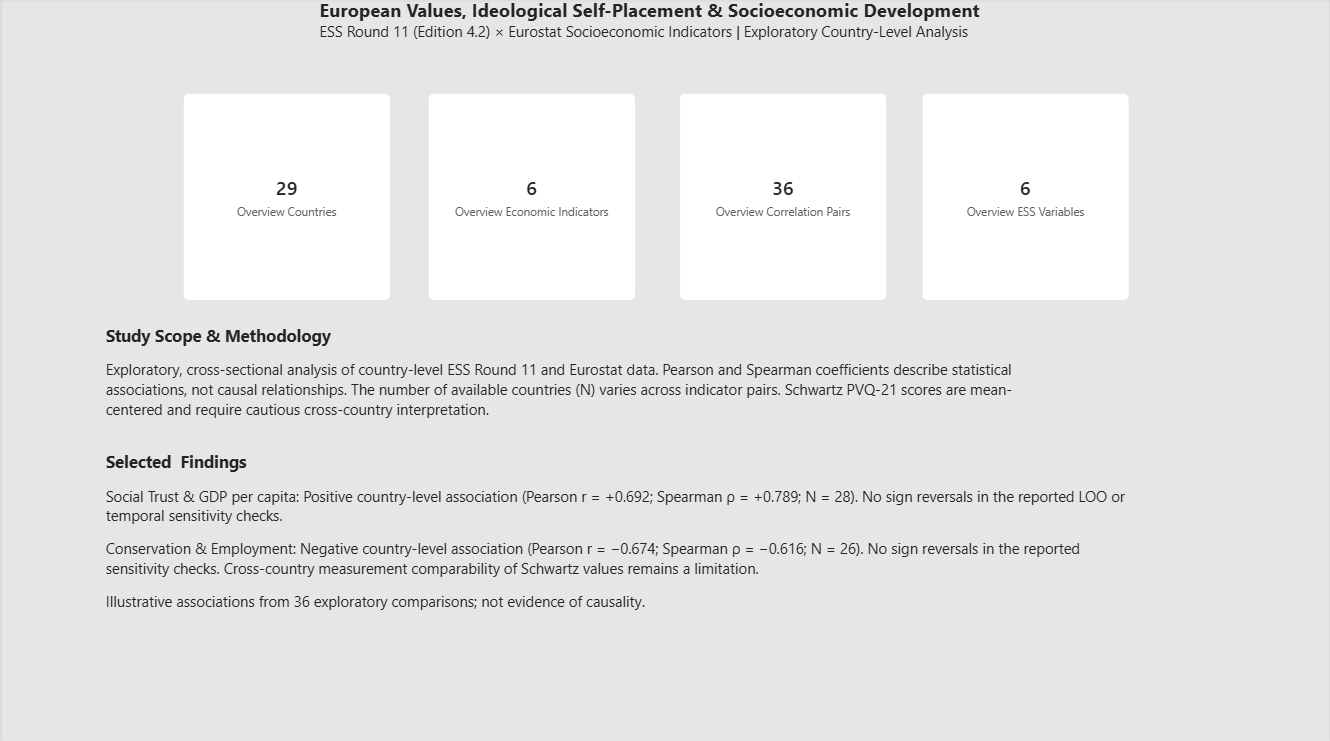

The page's visual inventory and layout, read from the dashboard file:
{"tool":"powerbi","page":{"name":"Executive Overview","canvas":[1920,1080],"ordinal":0},"visuals":[{"type":"textbox","box":[460,0,1225,280],"z":0},{"type":"card","fields":{"Values":["dim_country.Overview Countries"]},"box":[262.5,140,300,300],"z":1},{"type":"card","fields":{"Values":["dim_economic_indicator.Overview Economic Indicators"]},"box":[617.5,140,300,300],"z":2},{"type":"card","fields":{"Values":["fact_correlation.Overview Correlation Pairs"]},"box":[980,140,300,300],"z":3},{"type":"card","fields":{"Values":["dim_ess_variable.Overview ESS Variables"]},"box":[1332.5,140,300,300],"z":4},{"type":"textbox","box":[150,475,1332.5,182.5],"z":5},{"type":"textbox","box":[150,657.5,1482.5,422.5],"z":6}]}

Visuals, with their boxes in screenshot pixels (x1, y1, x2, y2), scaled from the page's 1920x1080 canvas onto the 1330x741 screenshot:
textbox: (x1=319, y1=0, x2=1167, y2=192)
card - dim_country.Overview Countries: (x1=182, y1=96, x2=390, y2=302)
card - dim_economic_indicator.Overview Economic Indicators: (x1=428, y1=96, x2=636, y2=302)
card - fact_correlation.Overview Correlation Pairs: (x1=679, y1=96, x2=887, y2=302)
card - dim_ess_variable.Overview ESS Variables: (x1=923, y1=96, x2=1131, y2=302)
textbox: (x1=104, y1=326, x2=1027, y2=451)
textbox: (x1=104, y1=451, x2=1131, y2=740)
